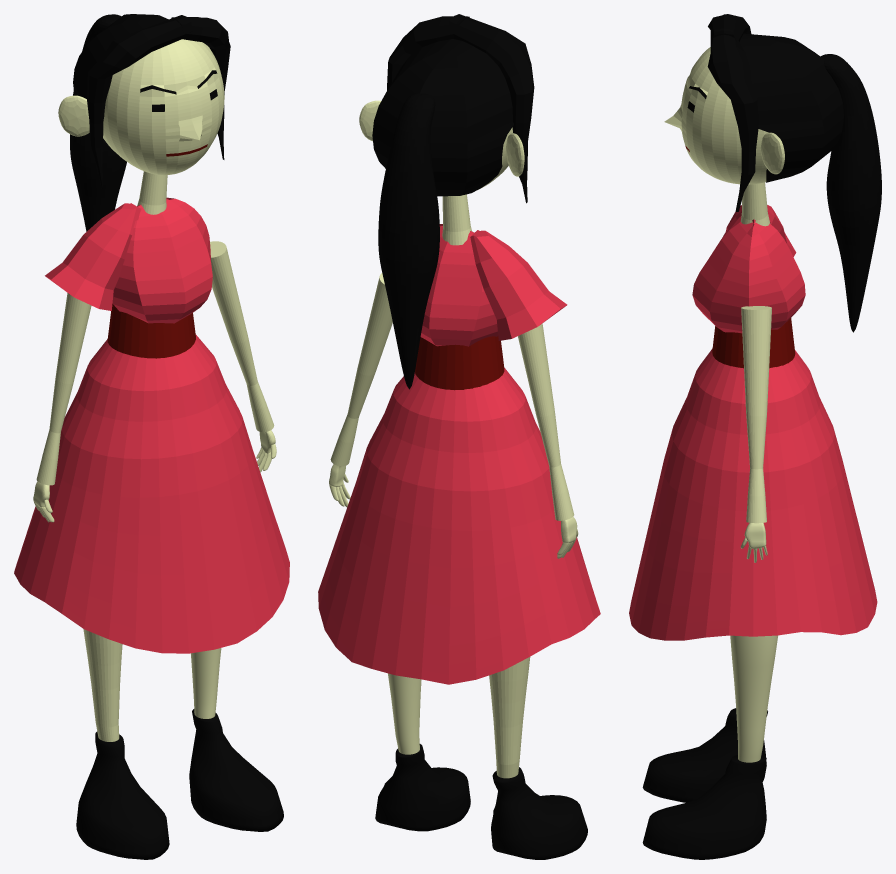
Rendered from personaje1.glb.
The picture shows the model from 3 angles, left to right: view 1: azimuth 30°, elevation 25°; view 2: azimuth 150°, elevation 25°; view 3: azimuth 270°, elevation 25°; orthographic projection. The views are drawn at different scales.
Visible parts, largest first — view 1: Cylinder, Cylinder.004, Cabeza, Sphere, Cylinder.010, Cylinder.008, Cylinder.009, ManoDerecha, Cylinder.006, Cylinder.001, Cylinder.003, Cabeza.001 (+4 smaller); view 2: Cylinder, Cabeza.001, Cylinder.009, Cylinder.004, Cylinder.010, Sphere, Cylinder.008, Cylinder.001, ManoDerecha, Cylinder.003, Cylinder.006, Cylinder.002 (+3 smaller); view 3: Cylinder, Cylinder.004, Cabeza.001, Cylinder.009, Sphere, Cabeza, Cylinder.006, Cylinder.010, Cylinder.002, Cylinder.001, Cylinder.005, Cylinder.007 (+2 smaller).
Part boxes in pixels (x1,y1,x2,y2): Cylinder: (14,334,289,653); Cylinder.004: (76,709,283,859); Cabeza: (103,39,224,175); Sphere: (112,197,212,323); Cylinder.010: (86,15,230,189); Cylinder.008: (45,203,140,310); Cylinder.009: (70,14,126,231); ManoDerecha: (36,293,91,485); Cylinder.006: (210,241,274,432); Cylinder.001: (107,303,195,358); Cylinder.003: (83,629,122,741); Cabeza.001: (73,14,168,149); Cylinder: (318,368,600,684); Cabeza.001: (372,39,513,196); Cylinder.009: (378,93,439,389); Cylinder.004: (375,744,587,859); Cylinder.010: (387,14,534,203); Sphere: (420,224,498,346); Cylinder.008: (470,230,567,340); Cylinder.001: (415,336,504,390); ManoDerecha: (518,323,574,520); Cylinder.003: (489,657,530,778); Cylinder.006: (330,273,392,466); Cylinder.002: (388,673,421,754); Cylinder: (629,348,877,640); Cylinder.004: (642,708,767,859); Cabeza.001: (739,33,843,182); Cylinder.009: (820,54,881,332); Sphere: (692,216,805,333); Cabeza: (664,47,768,184); Cylinder.006: (741,306,771,523); Cylinder.010: (707,14,758,211); Cylinder.002: (730,635,778,762); Cylinder.001: (712,318,795,368); Cylinder.005: (740,182,770,226); Cylinder.007: (760,132,784,174).
Bounding box in the file's own units: 0.7589 × 2.35 × 0.6819.
